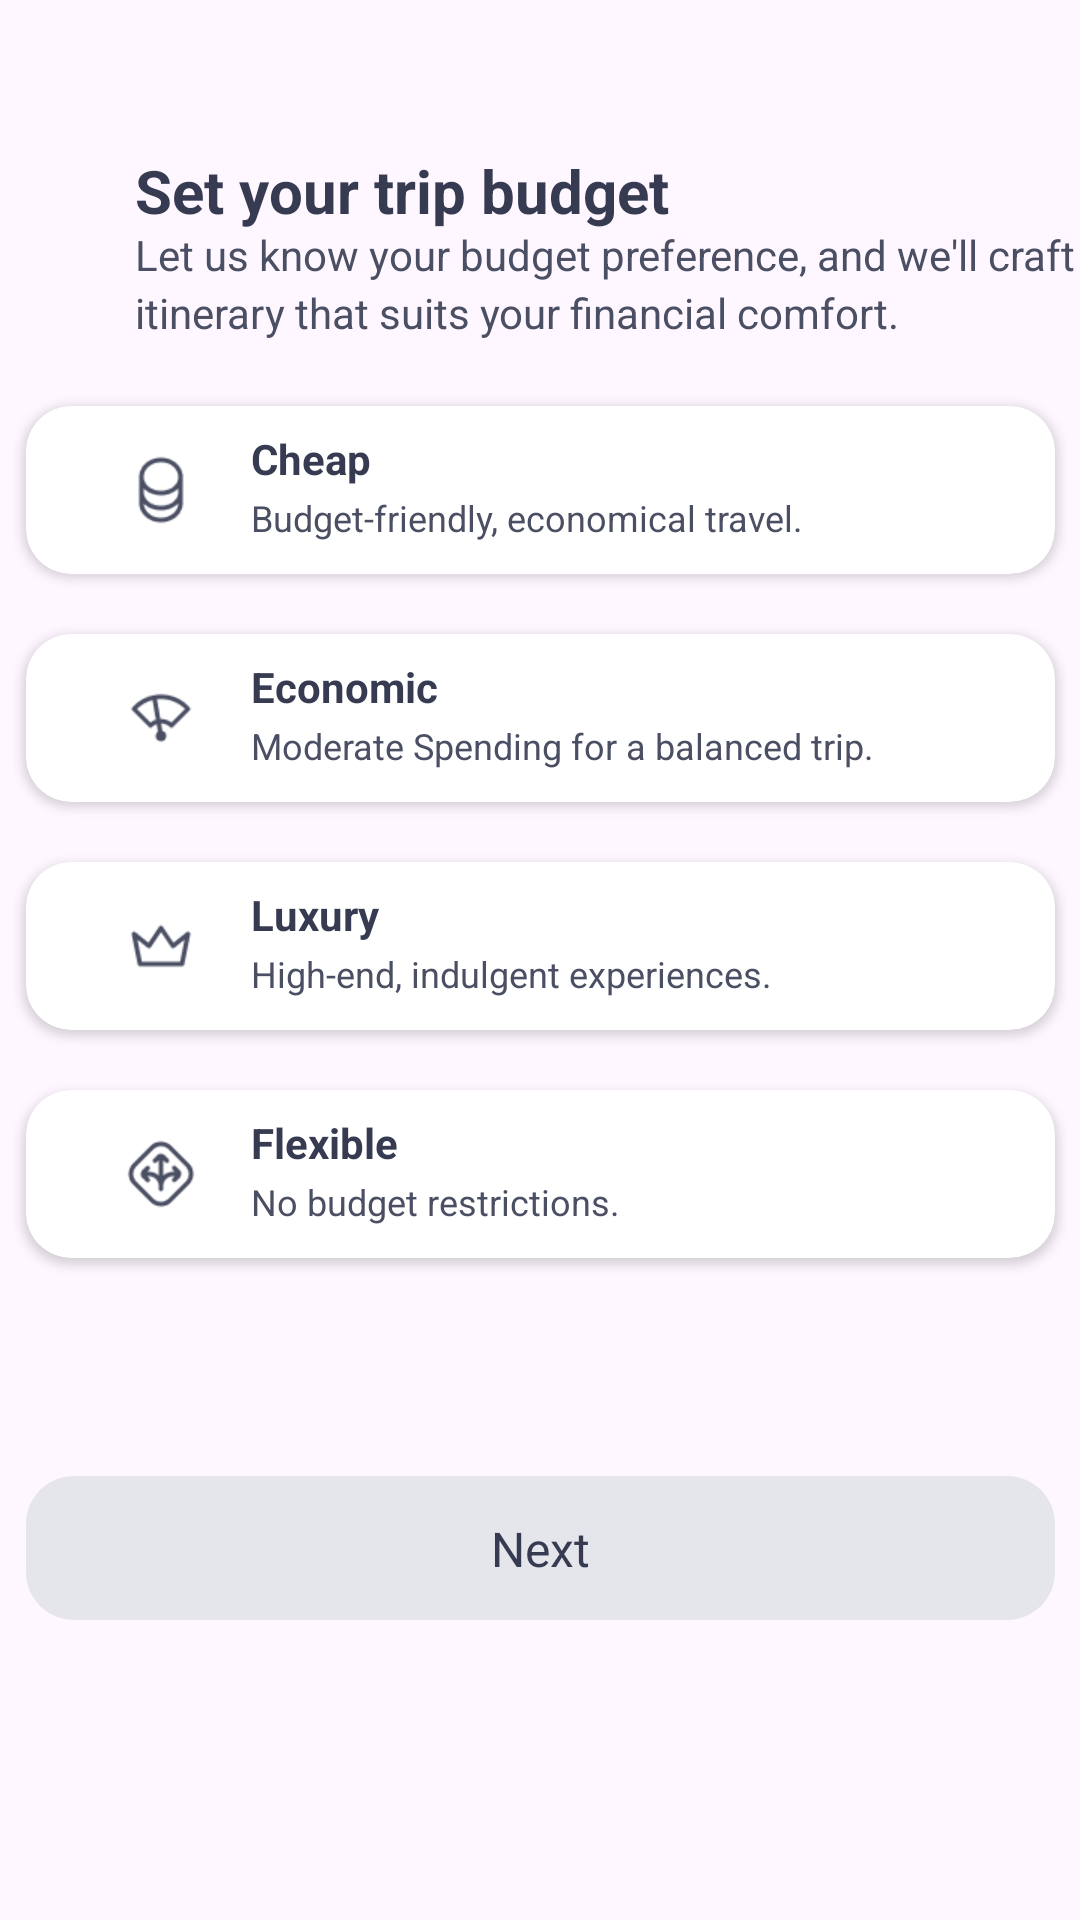

Where to tap for icons on this 1080px x 1920px app screen, as point (x, y):
luxary: point (161, 946)
